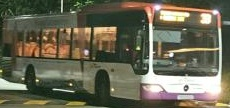bus: (196, 12, 217, 30)
